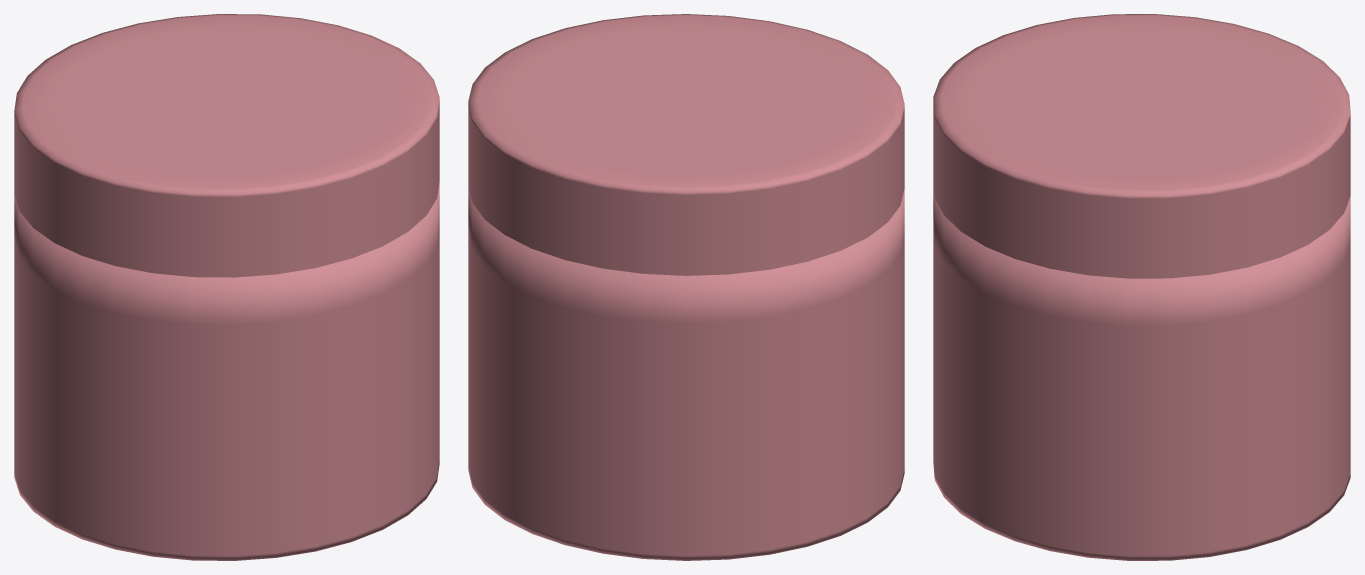
Rendered from 1-tier-blush-none-none.glb.
3 views of the same model, side by side, from view 1: azimuth 30°, elevation 25°; view 2: azimuth 150°, elevation 25°; view 3: azimuth 270°, elevation 25° (orthographic).
Visible parts, largest first — view 1: Cylinder.019; view 2: Cylinder.019; view 3: Cylinder.019.
Part boxes in pixels (bbox=[...]): Cylinder.019: bbox=[14, 14, 439, 560]; Cylinder.019: bbox=[468, 14, 904, 560]; Cylinder.019: bbox=[933, 14, 1350, 560].
Size of the model in its own units: 2.63 by 2.48 by 2.55.
